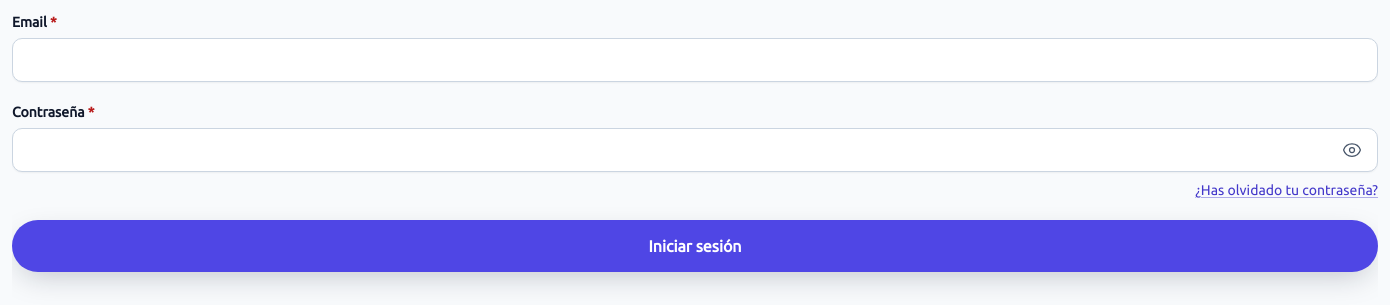
Scenario: LoginForm › permite ver y ocultar la contraseña
Step 1. Click the button named "Mostrar contraseña" → (1352, 150), box 1330,128 -> 1374,172
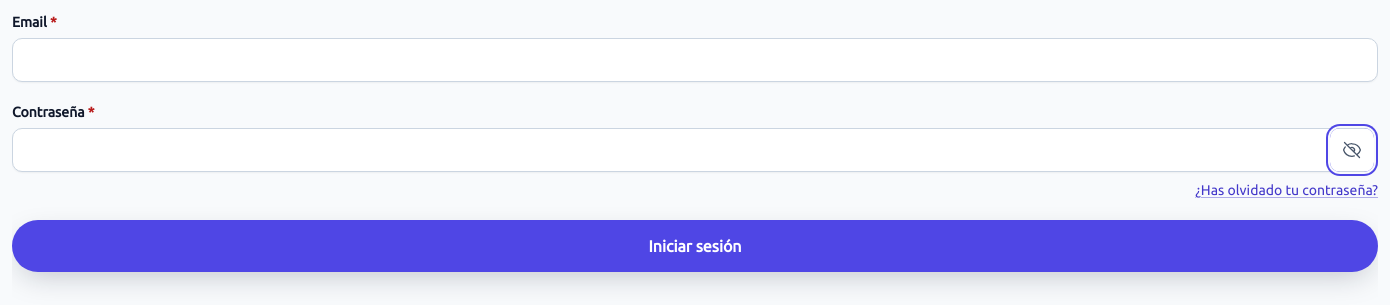
Result: the button named "Ocultar contraseña" is pressed at 1330,128 -> 1374,172
